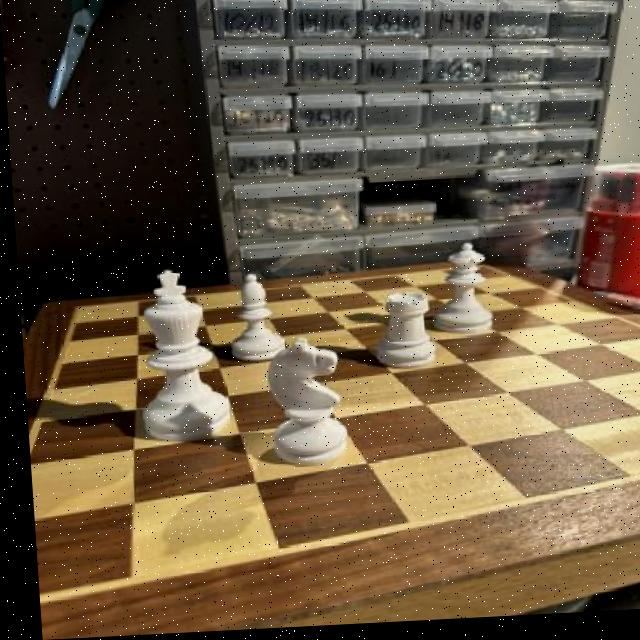black-rook: (209, 271, 288, 367)
white-bishop: (118, 265, 232, 446)
white-king: (251, 344, 356, 478)
white-pawn: (423, 246, 507, 338)
white-queen: (362, 289, 448, 380)
